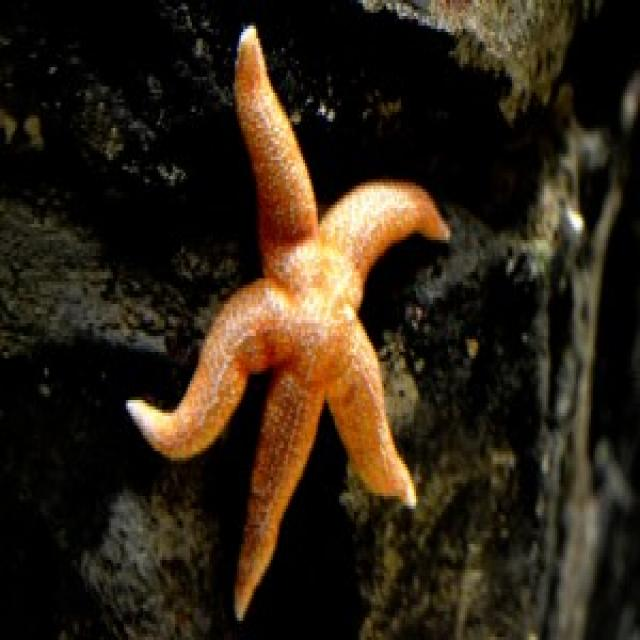Starfish: (125, 20, 456, 622)
